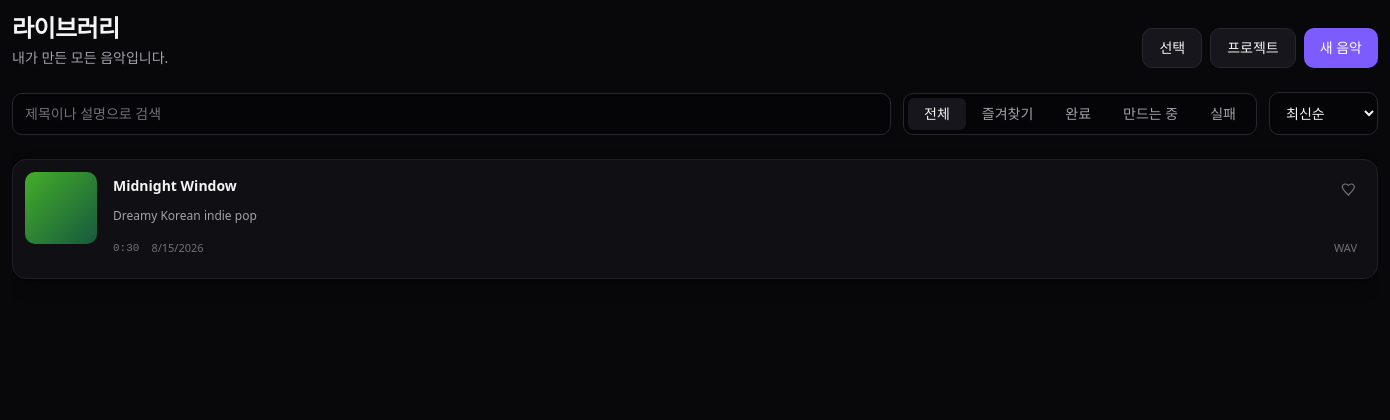
it: empty states › explains a search with no matches differently
Check: the text "Midnight Window" is shown, box [113,176,237,196]
Type "zzzz" into the search field labelled "제목이나 설명으로 검색" at point(452, 114), box [12,92,891,134]
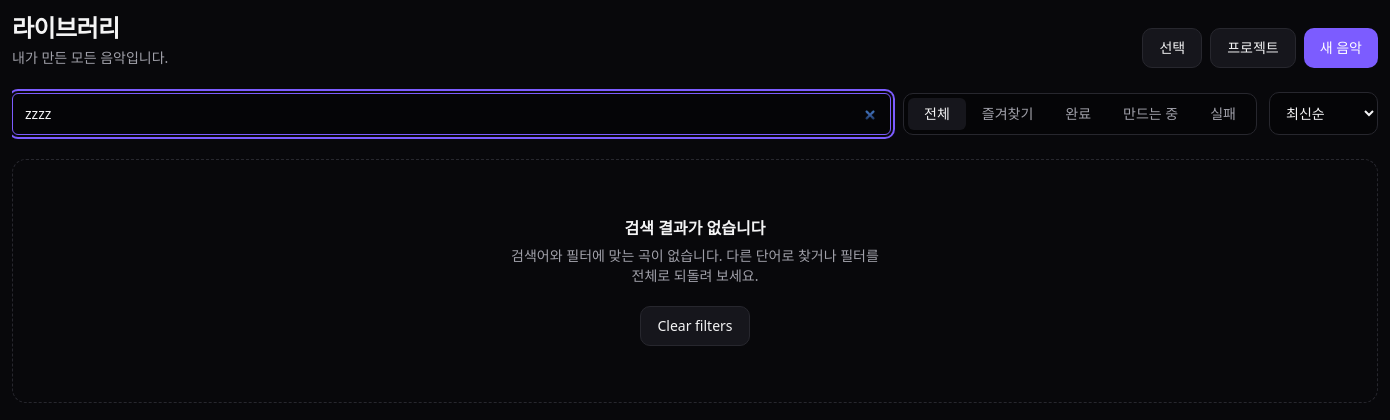
Check: the heading "검색 결과가 없습니다" is shown, box [625,216,765,240]
